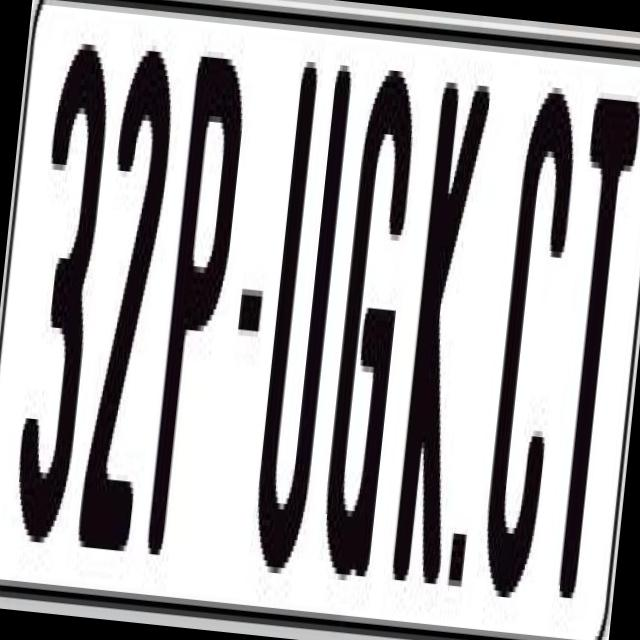2: (68, 48, 178, 586)
3: (12, 24, 122, 540)
C: (472, 90, 584, 617)
G: (316, 50, 424, 577)
K: (390, 70, 500, 602)
P: (145, 38, 258, 560)
T: (539, 96, 640, 617)
U: (246, 49, 350, 569)
